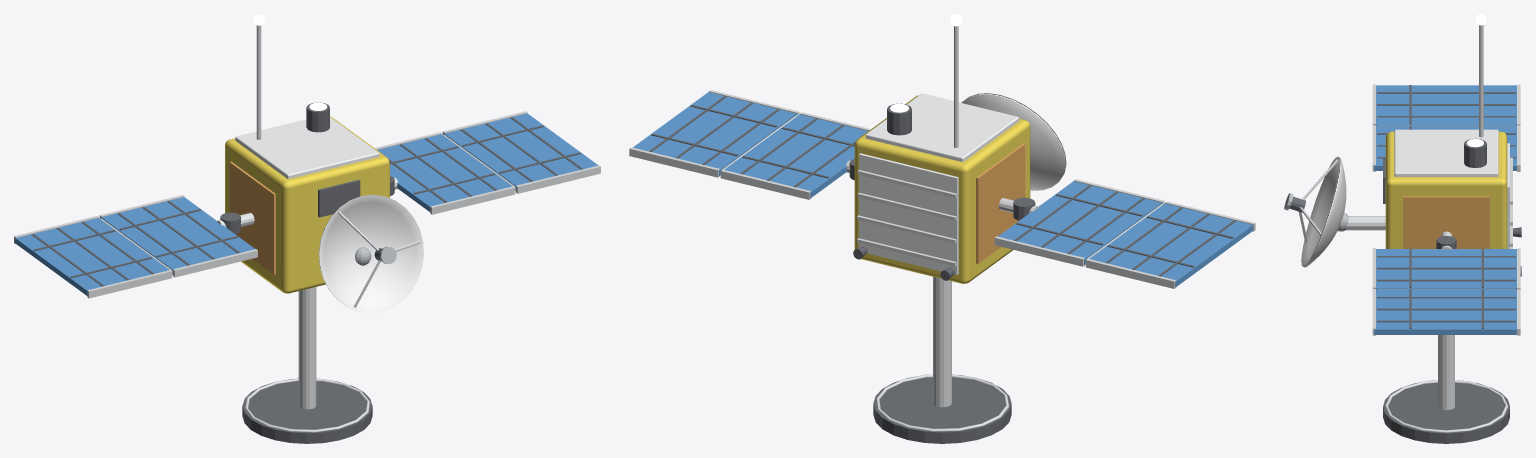
Rendered from uydu.glb.
3 renders of one model, left to right at view 1: azimuth 30°, elevation 25°; view 2: azimuth 150°, elevation 25°; view 3: azimuth 270°, elevation 25°, orthographic. The views are drawn at different scales.
Parts seen in each view (by area): view 1: comms-satellite, dish/white; view 2: comms-satellite, dish/white; view 3: comms-satellite, dish/white, dish/steel.
Boxes of the visible parts, box(x1,y1,x2,y2) form: comms-satellite: box(14, 14, 600, 443); dish/white: box(318, 194, 423, 312); comms-satellite: box(629, 14, 1255, 443); dish/white: box(961, 93, 1066, 190); comms-satellite: box(1372, 14, 1521, 443); dish/white: box(1301, 156, 1346, 267); dish/steel: box(1298, 159, 1385, 242).
Size of the model in its own units: 2 by 1.48 by 0.8211.
